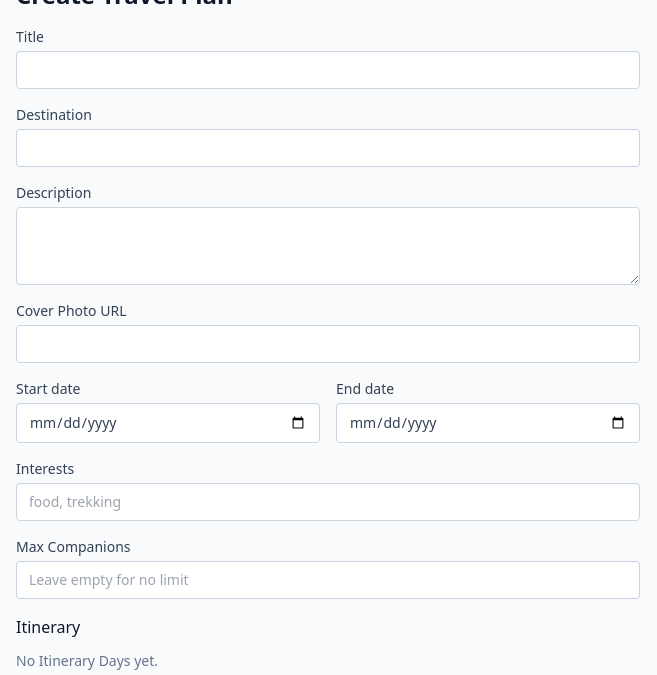
Test: PlanForm › fills_the_editor_when_generate_itinerary_succeeds
This screenshot has width=657, height=675.
In the field labelled "Title": (328, 70) x1=16 y1=51 x2=640 y2=89, type "Goa Escape"
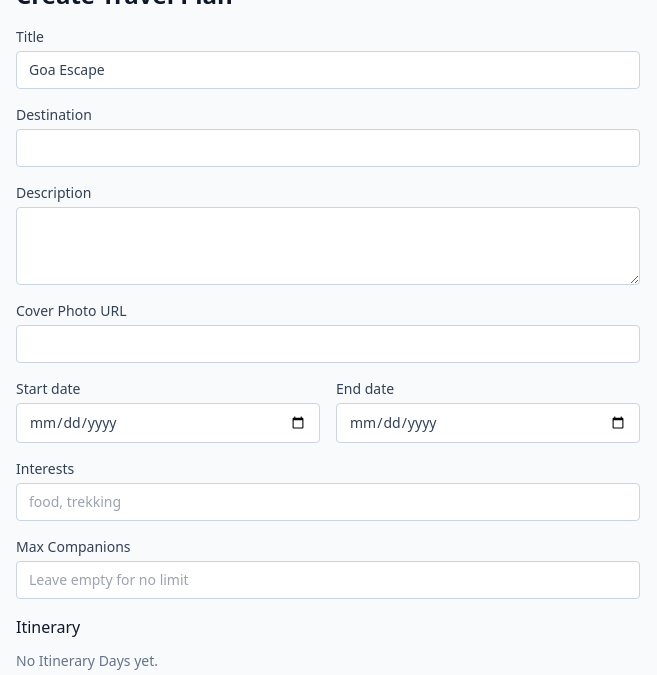
In the field labelled "Destination": (328, 148) x1=16 y1=129 x2=640 y2=167, type "Goa"
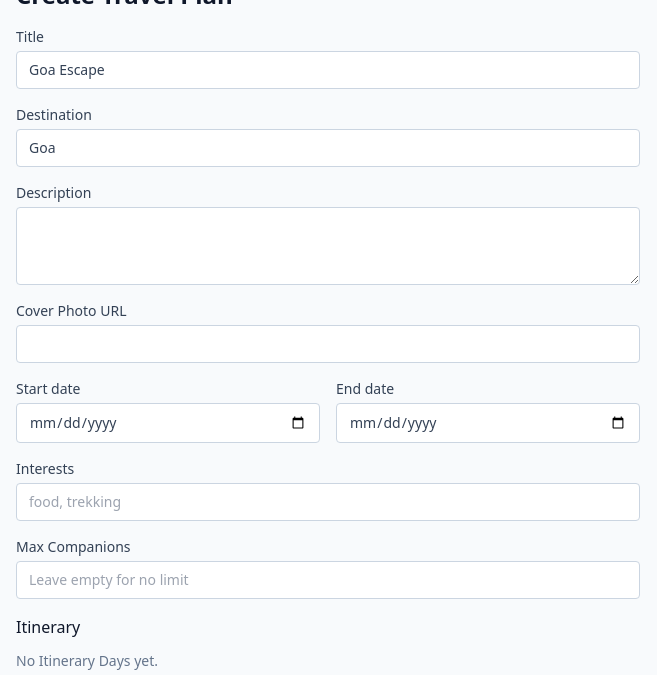
In the date field labelled "Start date": (168, 423) x1=16 y1=403 x2=320 y2=443, type "2030-05-01"
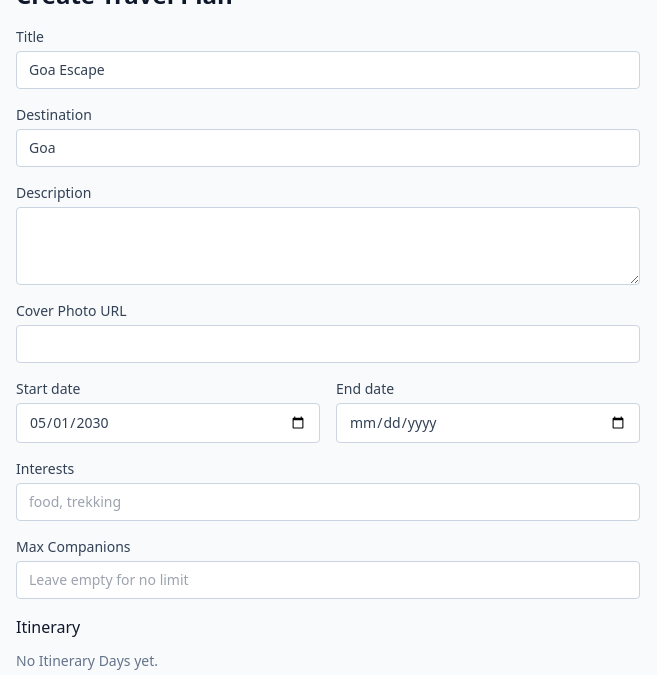
In the date field labelled "End date": (488, 423) x1=336 y1=403 x2=640 y2=443, type "2030-05-03"
(page scrolled)
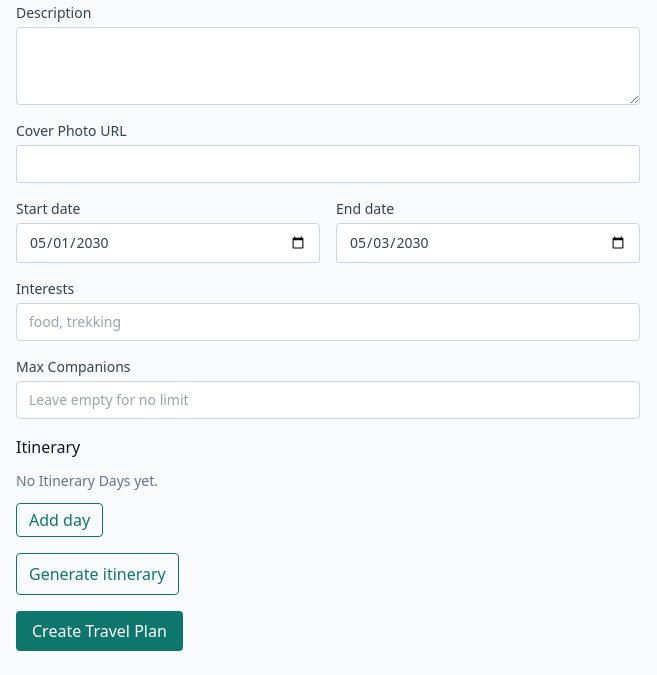
Click the button "Generate itinerary": (97, 574) x1=16 y1=553 x2=179 y2=595
(page scrolled)
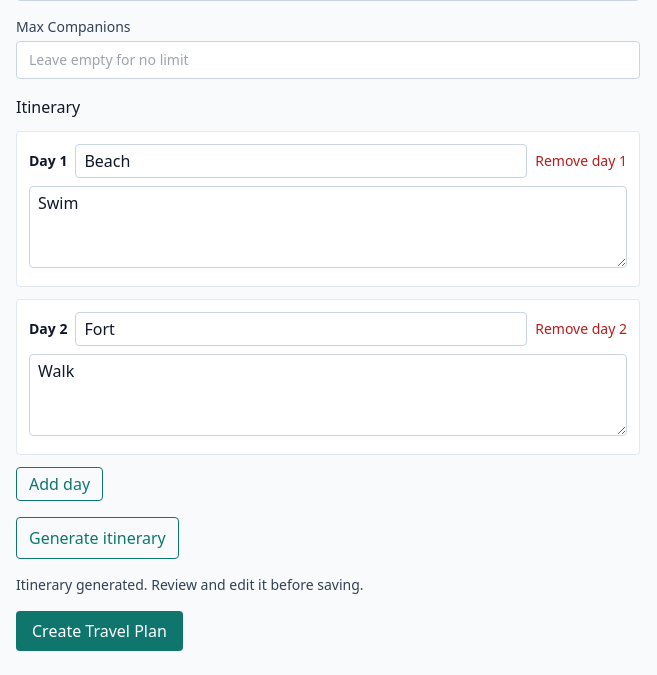
Now the field named "Day 2 title" holds "Fort", box x1=75 y1=312 x2=527 y2=346
